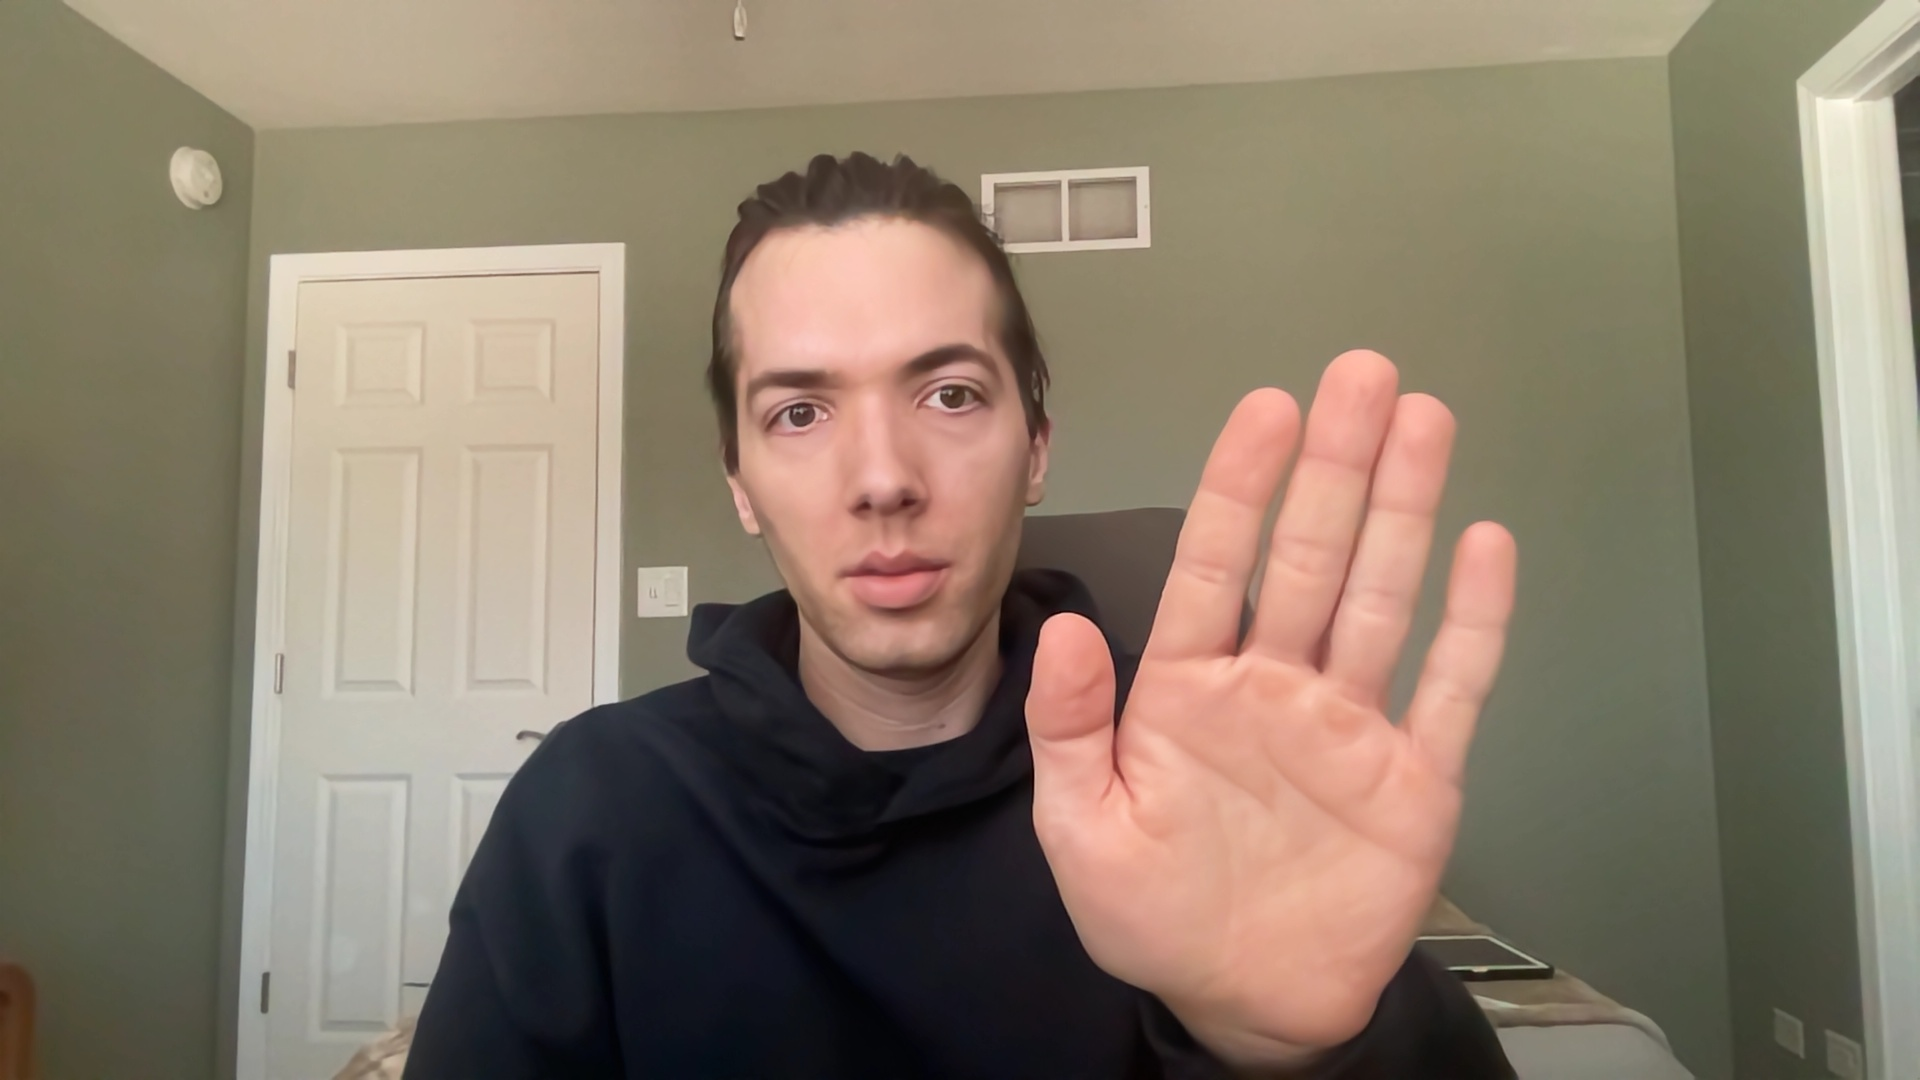Hello: (1006, 336, 1538, 1058)
